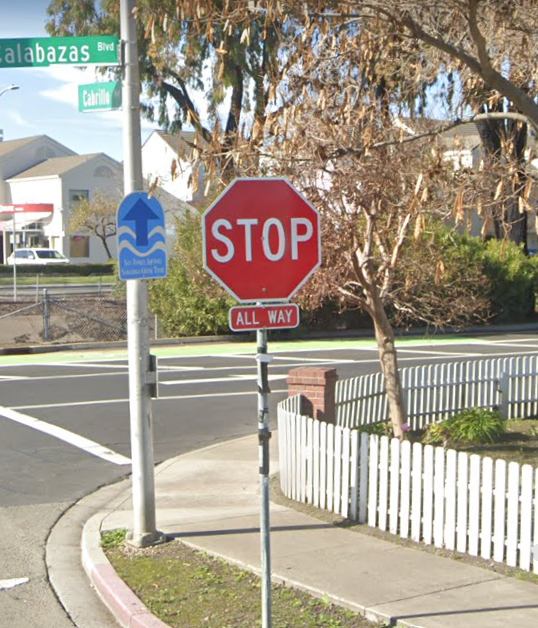stop_sign: (201, 178, 320, 299)
